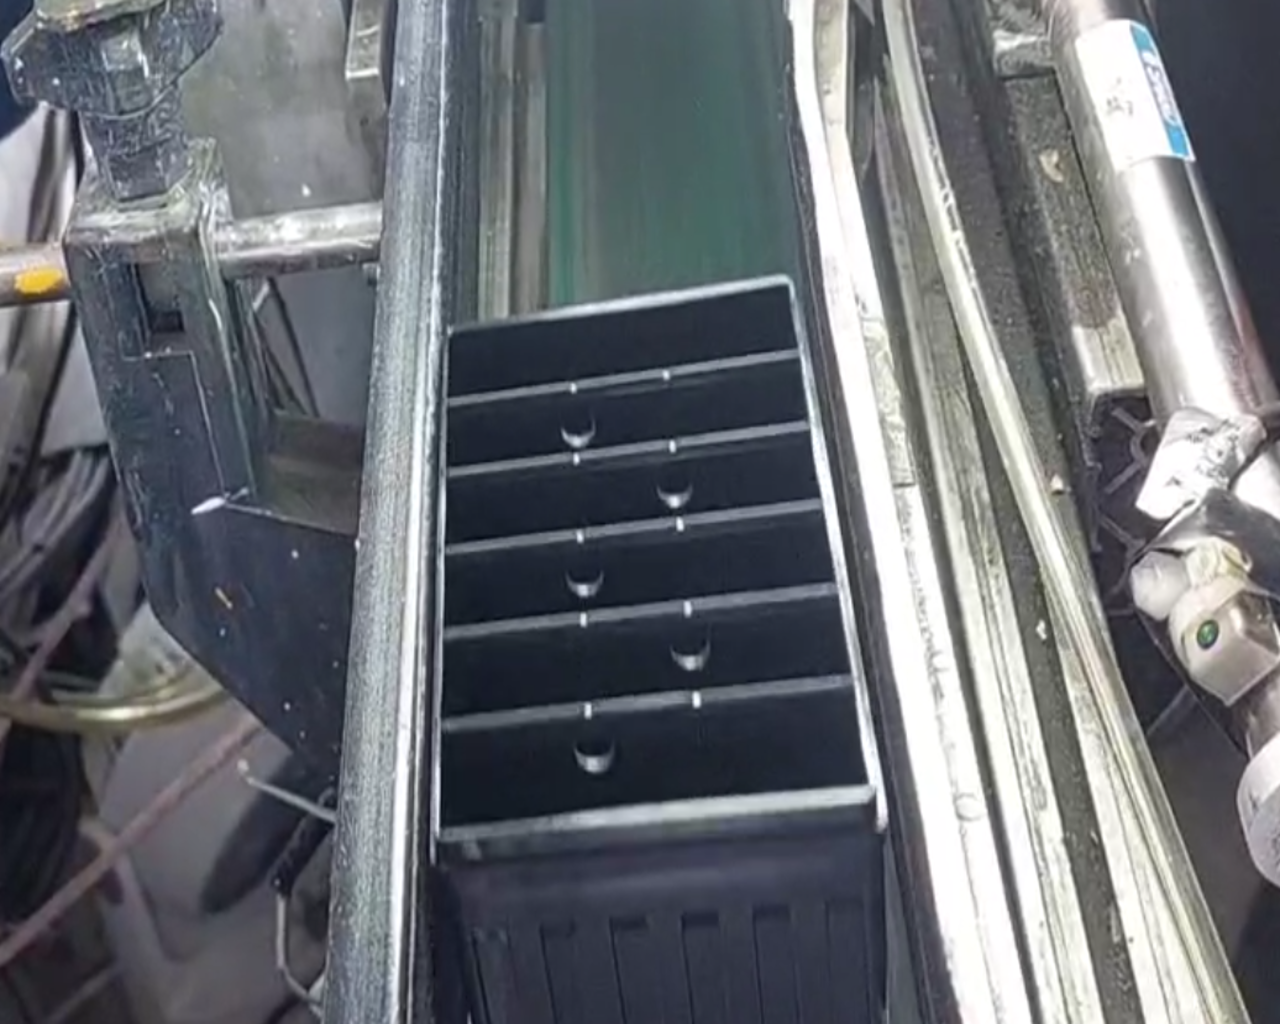box: (409, 256, 910, 870)
round: (557, 714, 635, 782), (653, 618, 727, 680), (638, 455, 703, 517), (544, 393, 609, 454), (554, 549, 618, 603)
